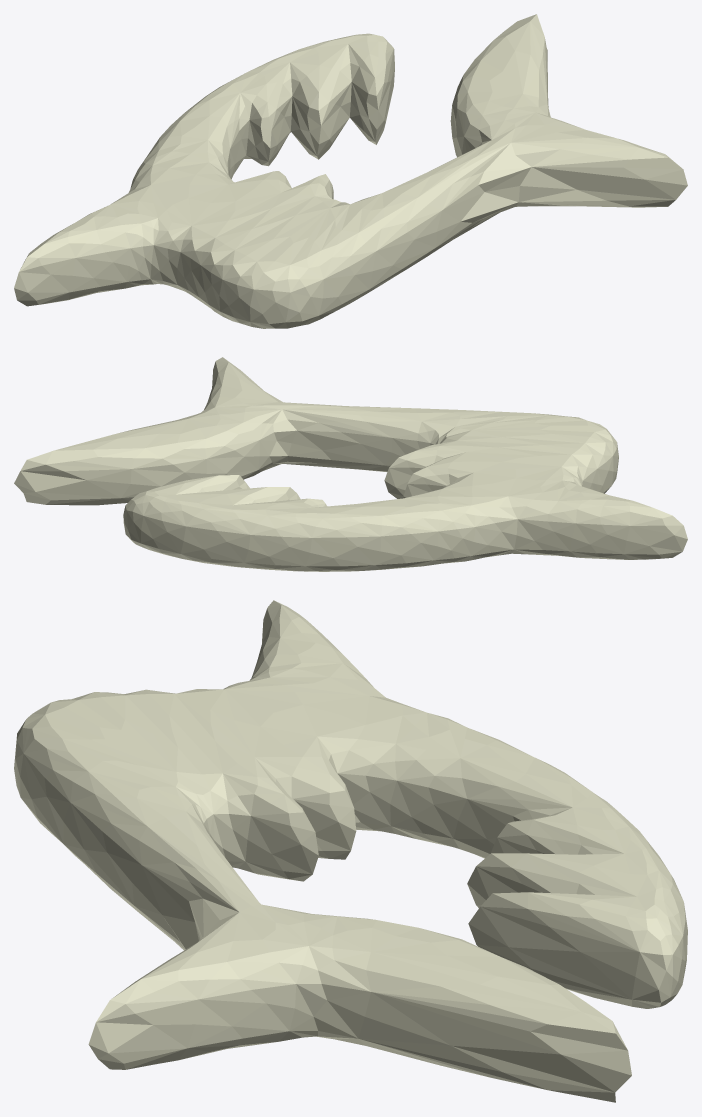
File: n_shark_6.fbx
3 views of the same model, one above another, from view 1: azimuth 30°, elevation 25°; view 2: azimuth 150°, elevation 25°; view 3: azimuth 270°, elevation 25° (orthographic). The views are drawn at different scales.
Parts seen in each view (by area): view 1: Group1; view 2: Group1; view 3: Group1.
Part boxes in pixels (bbox=[...]): Group1: bbox=[14, 14, 687, 328]; Group1: bbox=[14, 357, 687, 571]; Group1: bbox=[14, 600, 687, 1102].
Bounding box in the file's own units: 155 × 14.81 × 98.04.
